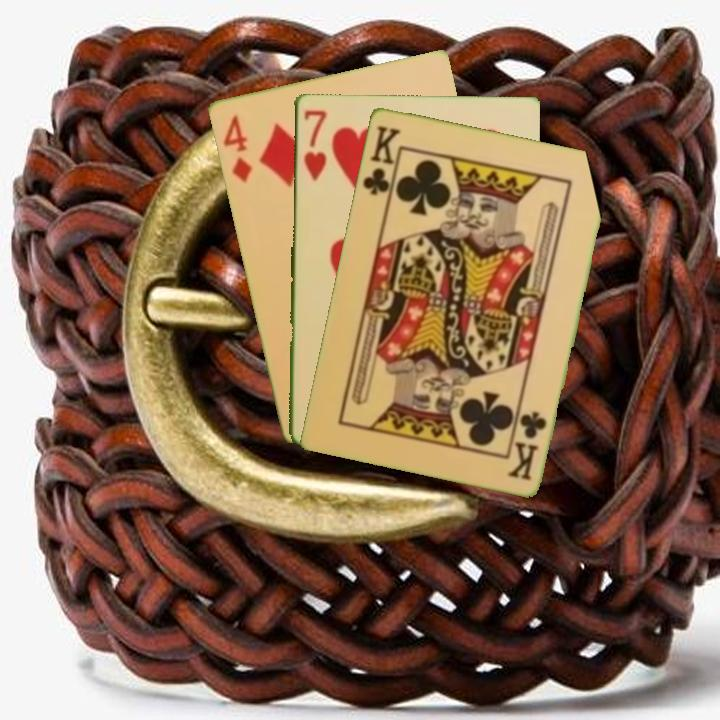4d: (219, 111, 255, 186)
7h: (299, 106, 329, 184)
Kc: (358, 121, 403, 204), (506, 407, 549, 483)
